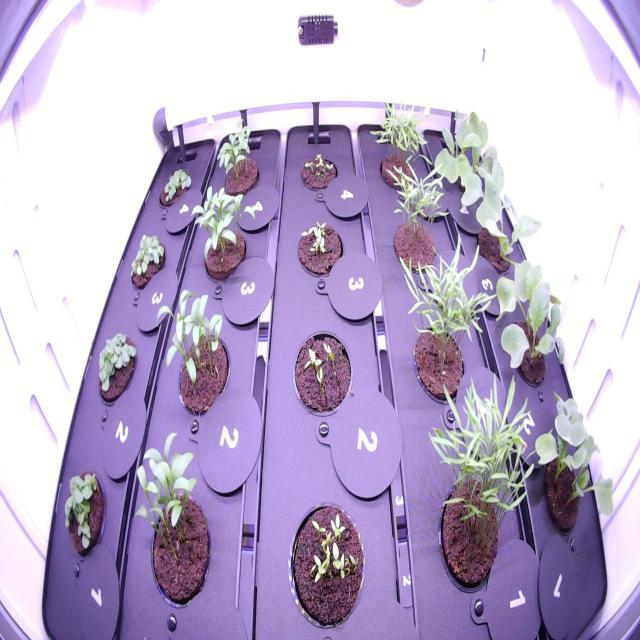germination: (123, 422, 210, 622), (150, 276, 234, 438), (284, 490, 370, 634), (190, 176, 254, 288), (290, 324, 356, 425), (58, 464, 110, 570), (90, 326, 141, 407), (216, 116, 261, 206), (121, 224, 172, 299), (295, 212, 346, 284), (154, 158, 198, 215), (297, 143, 342, 197)
